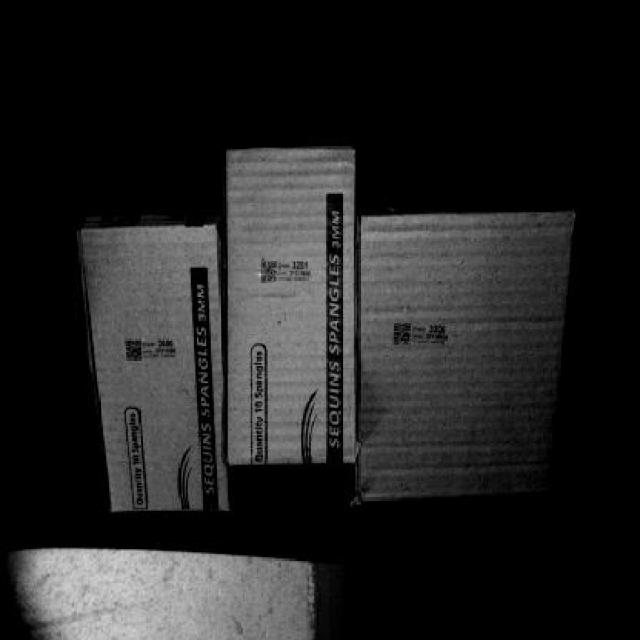cardboxes: (363, 220, 563, 498), (80, 231, 232, 512), (232, 146, 358, 472)
